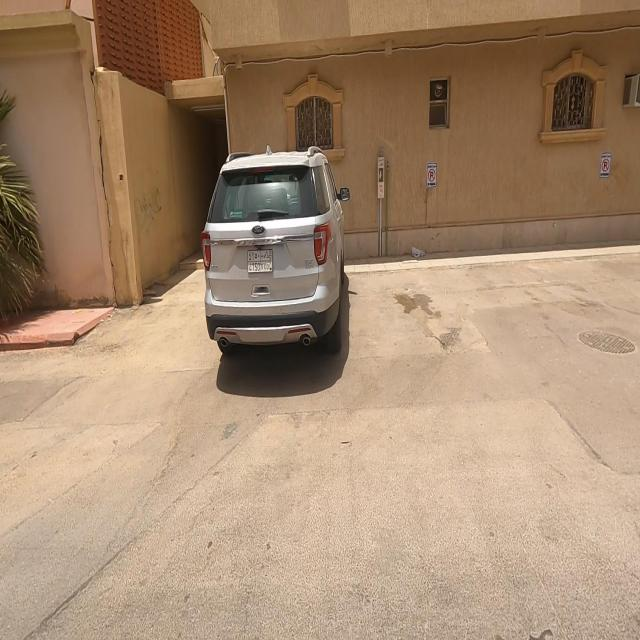Graffiti: (133, 188, 167, 241)
